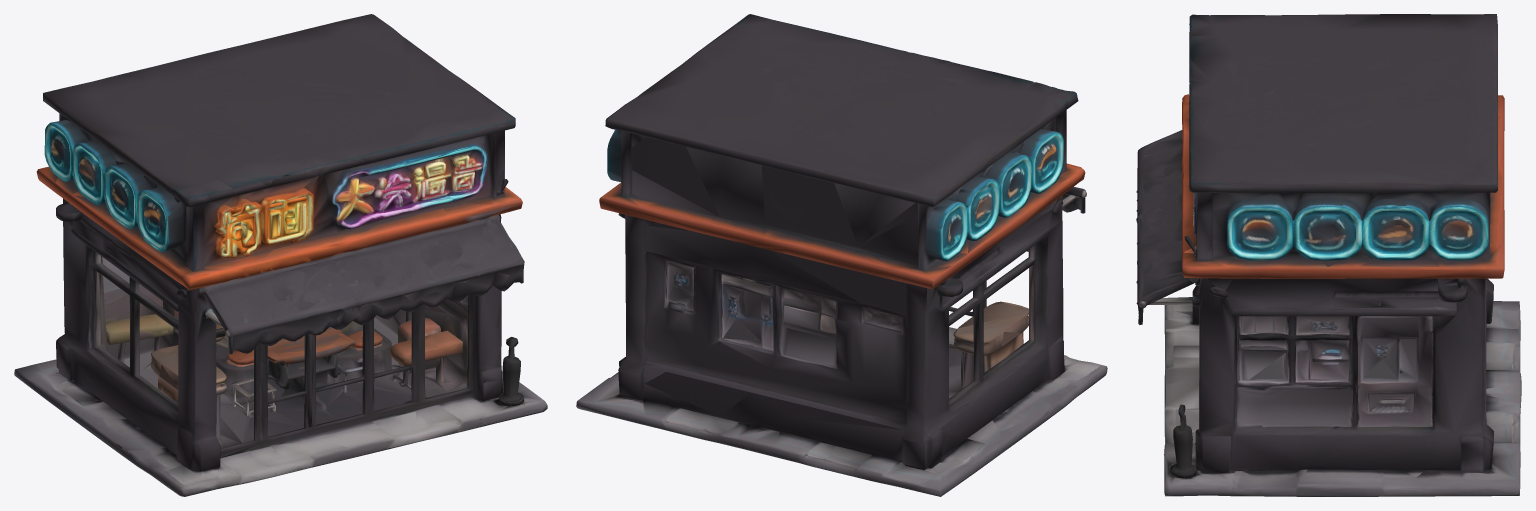
Rendered from bld_kuro_shop1f.fbx.
3 views of the same model, side by side, from view 1: azimuth 30°, elevation 25°; view 2: azimuth 150°, elevation 25°; view 3: azimuth 270°, elevation 25° (orthographic). The views are drawn at different scales.
Parts seen in each view (by area): view 1: bld_kuro_shop1f_LOD0; view 2: bld_kuro_shop1f_LOD0; view 3: bld_kuro_shop1f_LOD0.
Boxes of the visible parts, x1=… form: bld_kuro_shop1f_LOD0: x1=14, y1=14, x2=547, y2=496; bld_kuro_shop1f_LOD0: x1=576, y1=14, x2=1107, y2=496; bld_kuro_shop1f_LOD0: x1=1136, y1=14, x2=1521, y2=496.
Size of what is drawn, in the model's own units: 0.9787 by 0.7399 by 0.8431.
